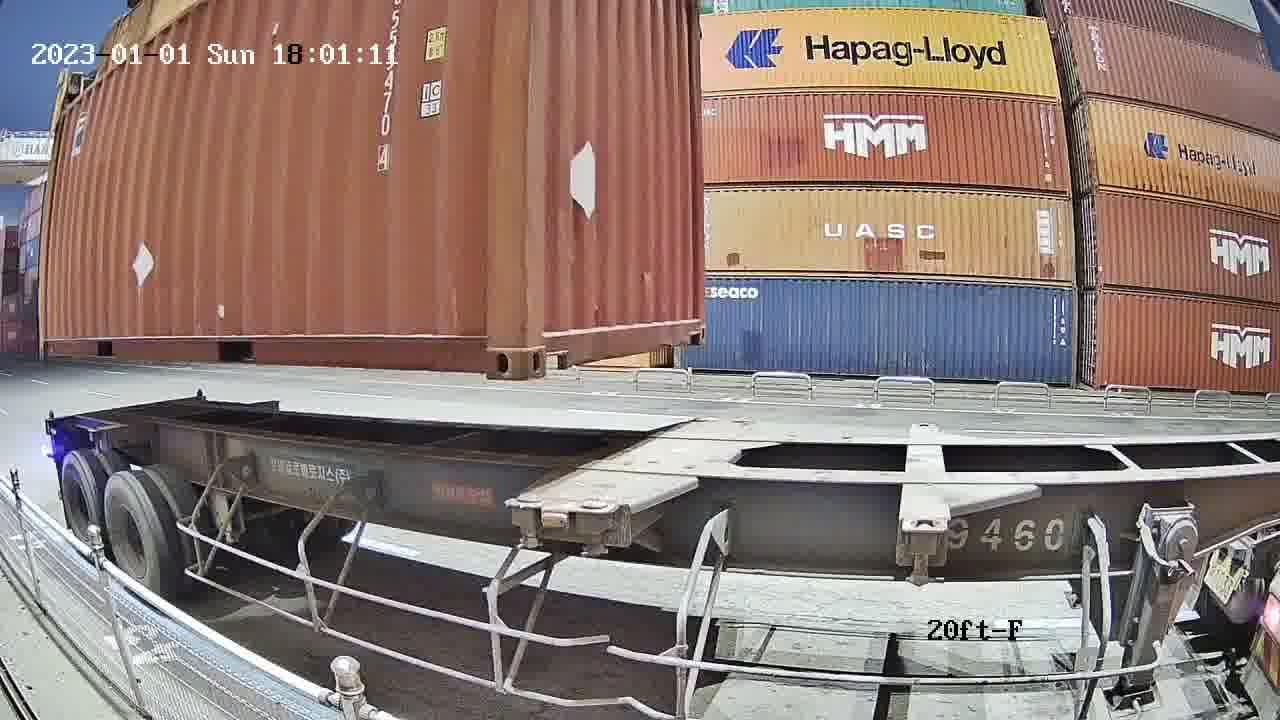Chassis: (509, 415, 714, 506), (575, 418, 752, 512)
Cone: (575, 500, 616, 562), (508, 493, 546, 553)
Hole_L: (523, 313, 569, 379)
Hole_R: (463, 315, 523, 379), (680, 308, 706, 345)
Tire: (102, 474, 159, 598), (62, 454, 98, 547)
